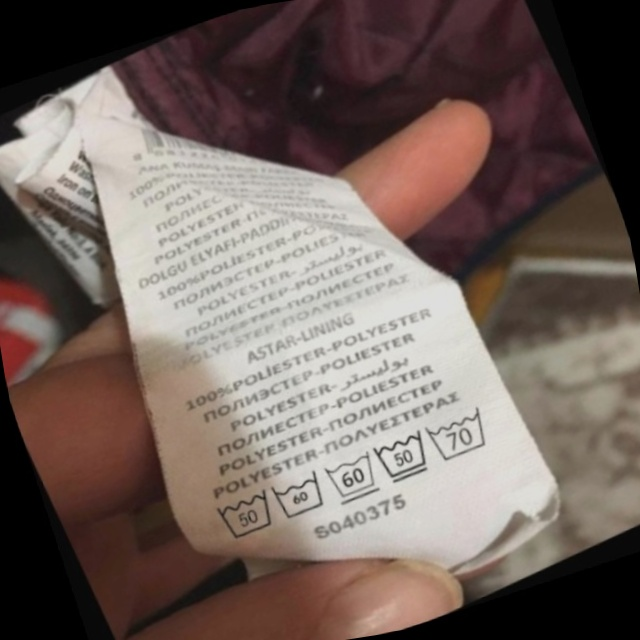50C: (203, 475, 289, 554), (364, 419, 444, 494)
60C: (316, 440, 392, 513), (263, 460, 339, 531)
70C: (419, 396, 505, 471)
